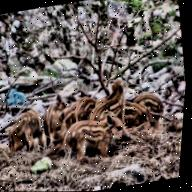boar: (53, 103, 135, 161), (0, 90, 48, 144), (136, 75, 180, 112), (105, 68, 140, 114), (73, 93, 104, 114), (122, 98, 154, 118), (38, 96, 56, 122), (63, 94, 82, 118)
